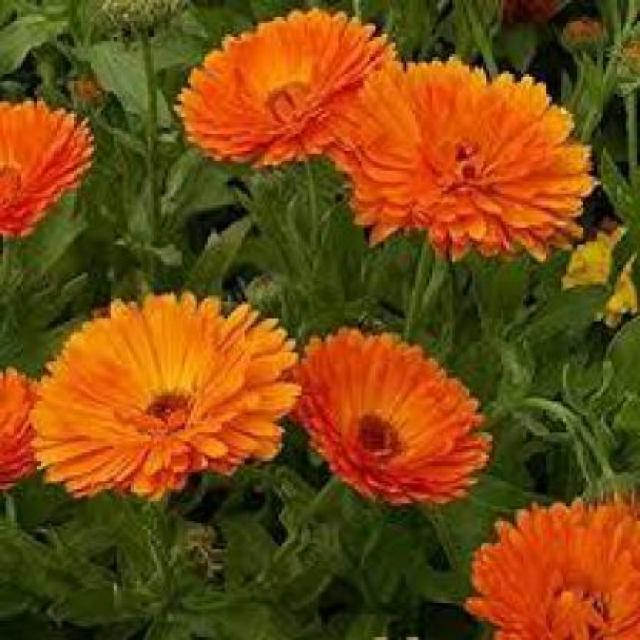flower: (335, 62, 597, 267), (27, 296, 291, 492), (263, 328, 491, 506), (163, 15, 400, 158), (465, 483, 633, 626), (4, 90, 93, 248)
